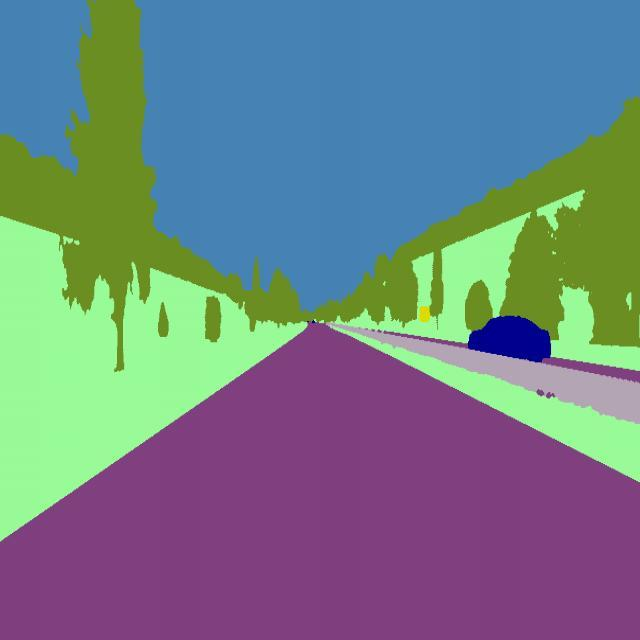safe: (466, 312, 553, 366)
